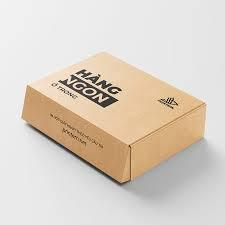box: (21, 51, 206, 185)
